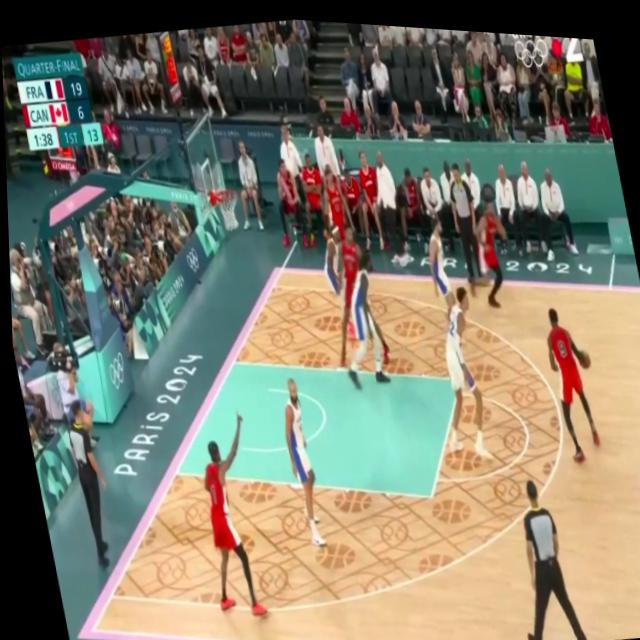ball_handler: (541, 296, 606, 455)
